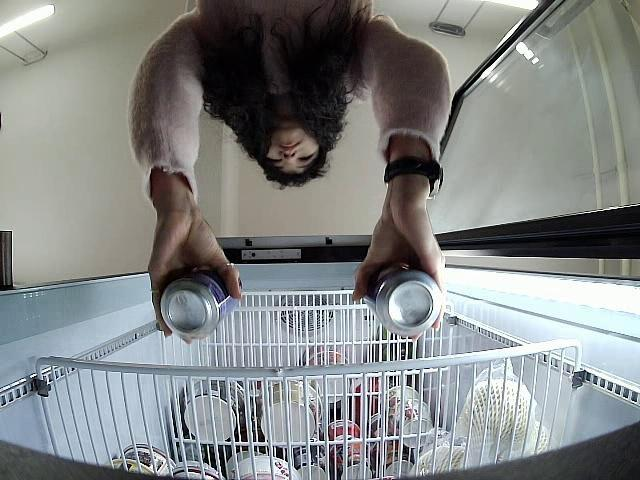14_welchsGrape: (363, 266, 444, 338), (160, 270, 243, 338)
